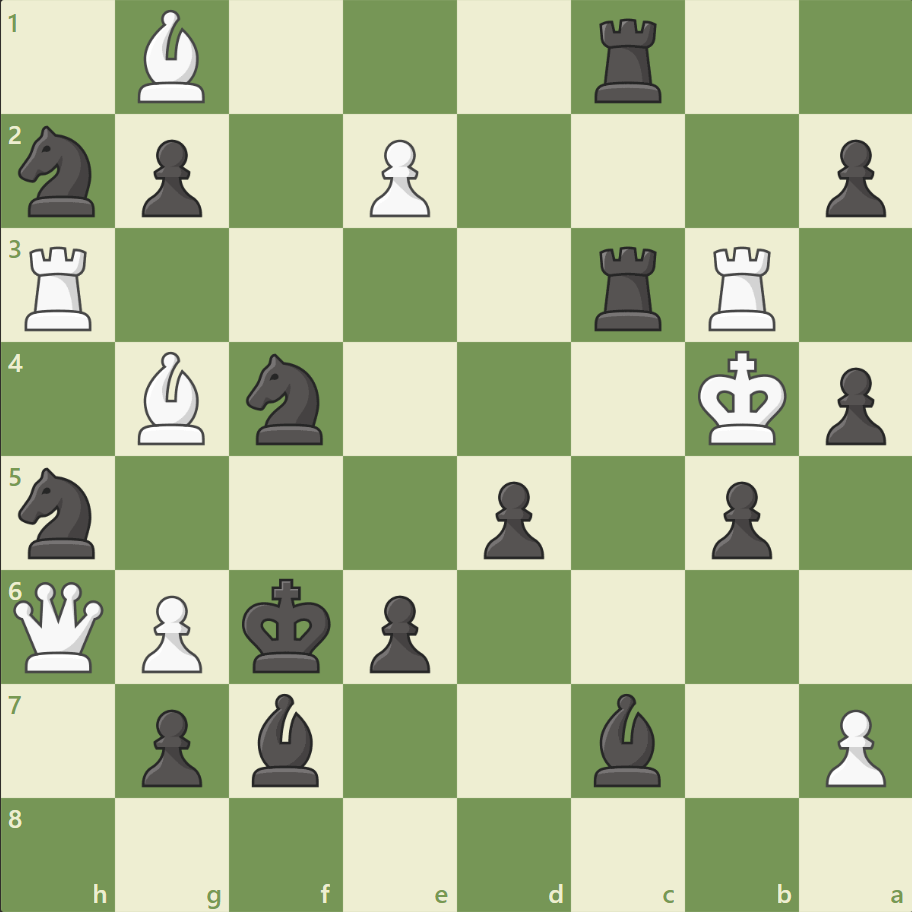B: (131, 6, 215, 109), (131, 347, 215, 449)
K: (692, 344, 792, 452)
P: (133, 586, 208, 677), (815, 700, 889, 791), (361, 132, 435, 223)
Q: (10, 576, 109, 676)
R: (700, 239, 783, 336), (19, 239, 102, 336)
b: (585, 687, 669, 790), (244, 687, 328, 790)
k: (238, 571, 338, 679)
n: (11, 461, 108, 564), (238, 348, 335, 450), (11, 121, 108, 223)
p: (133, 700, 208, 791), (701, 473, 776, 564), (474, 473, 549, 564), (133, 132, 208, 223), (361, 586, 435, 677), (815, 359, 889, 450), (815, 132, 889, 223)
r: (587, 239, 670, 336), (587, 12, 670, 109)
